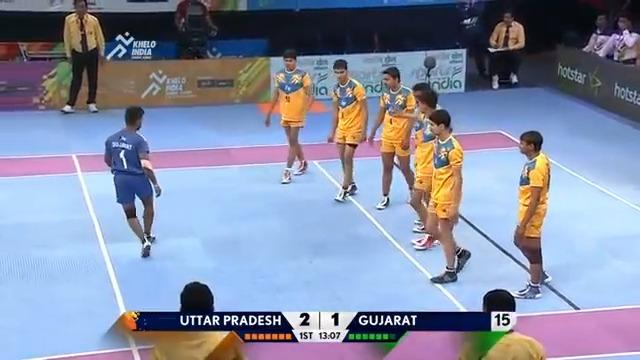Player: (421, 107, 472, 284), (508, 127, 554, 299), (262, 47, 316, 185), (367, 64, 418, 210), (326, 56, 369, 203)
Raider: (102, 102, 164, 258)
referee: (59, 0, 105, 113), (486, 8, 525, 89)
